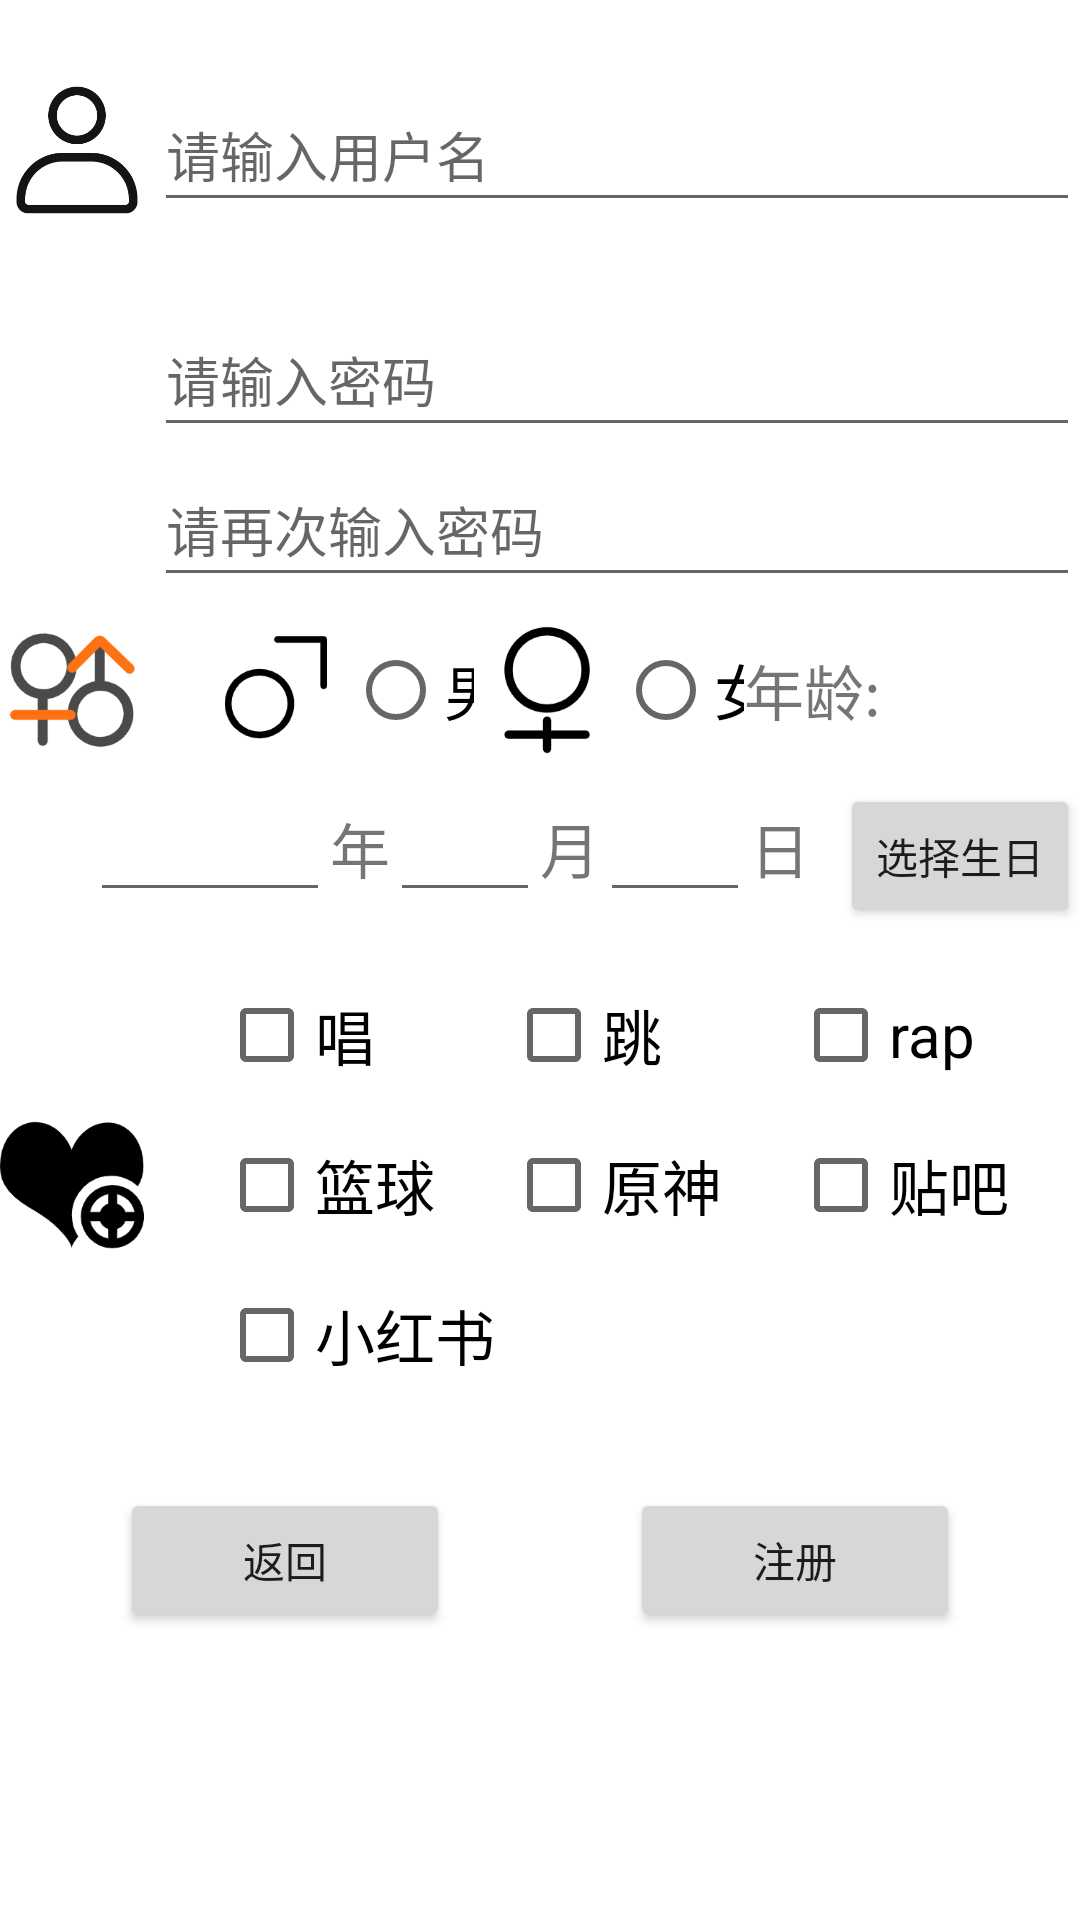

Screen size 1080×1920. Icon name, then its box in pixels as (x1, y1, x2, y2):
nan: (225, 636, 327, 739)
wodewo: (16, 86, 138, 214)
xingbie: (10, 633, 135, 747)
xingque: (0, 1121, 144, 1249)
